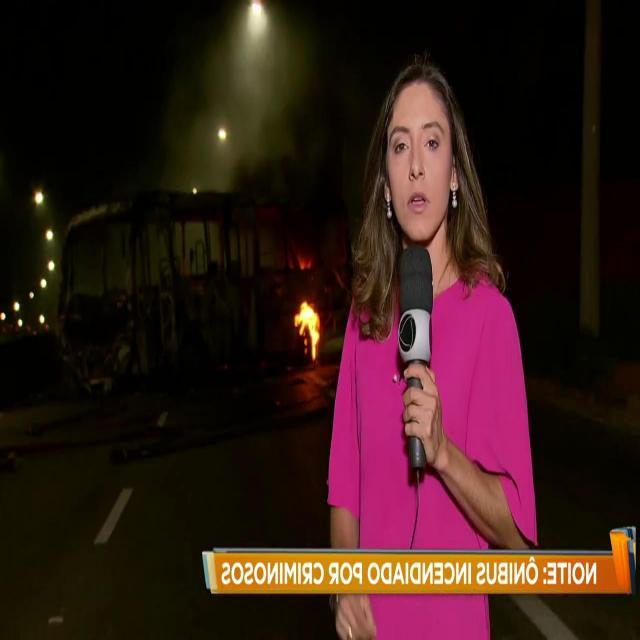fire: (286, 282, 326, 367)
